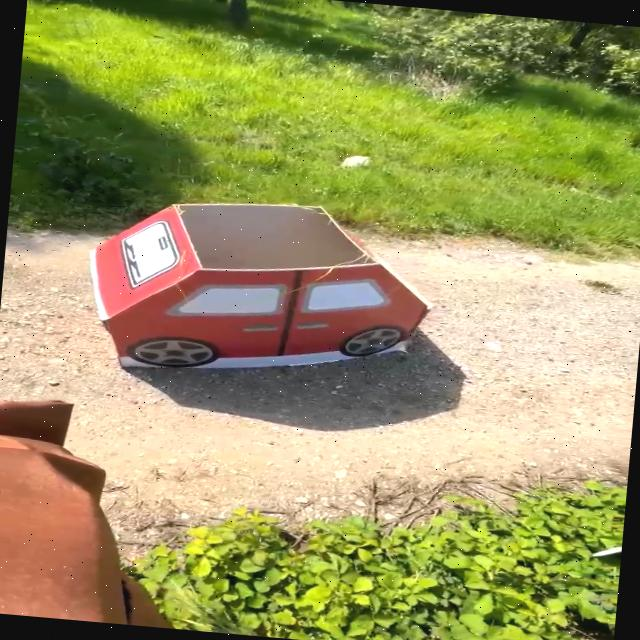red_car: (66, 179, 456, 417)
